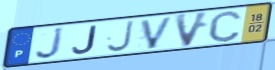C: (207, 9, 244, 43)
J: (105, 19, 136, 54), (34, 26, 65, 60), (70, 24, 99, 55)
V: (174, 10, 212, 49), (139, 15, 176, 51)
